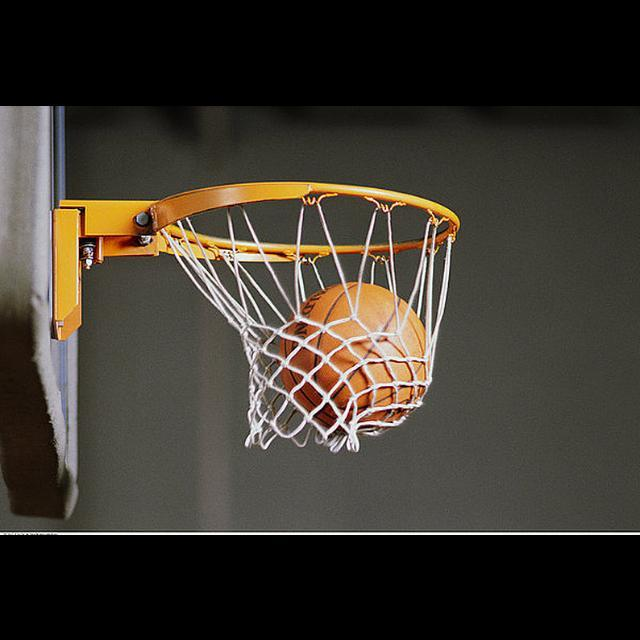basketball: (281, 283, 429, 429)
rim: (156, 180, 460, 450)
